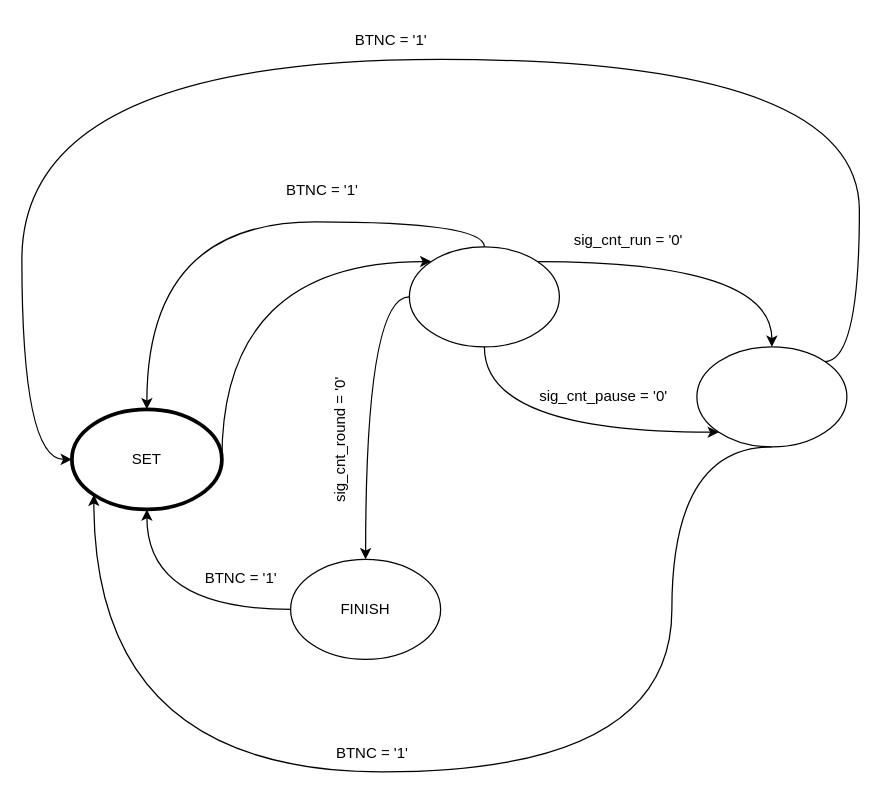
Image size: 881x794. Some labels were removed from this diagram. Each missing label, with the centre of its shape:
PAUSE: the point at 771,396
RUN: the point at 483,296
